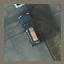car: (15, 10, 43, 47)
